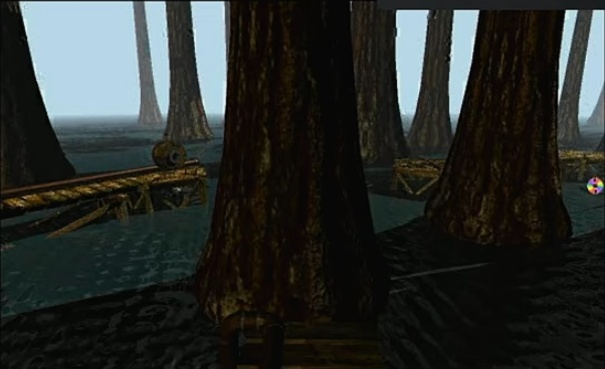Waiting: (584, 175, 604, 196)
